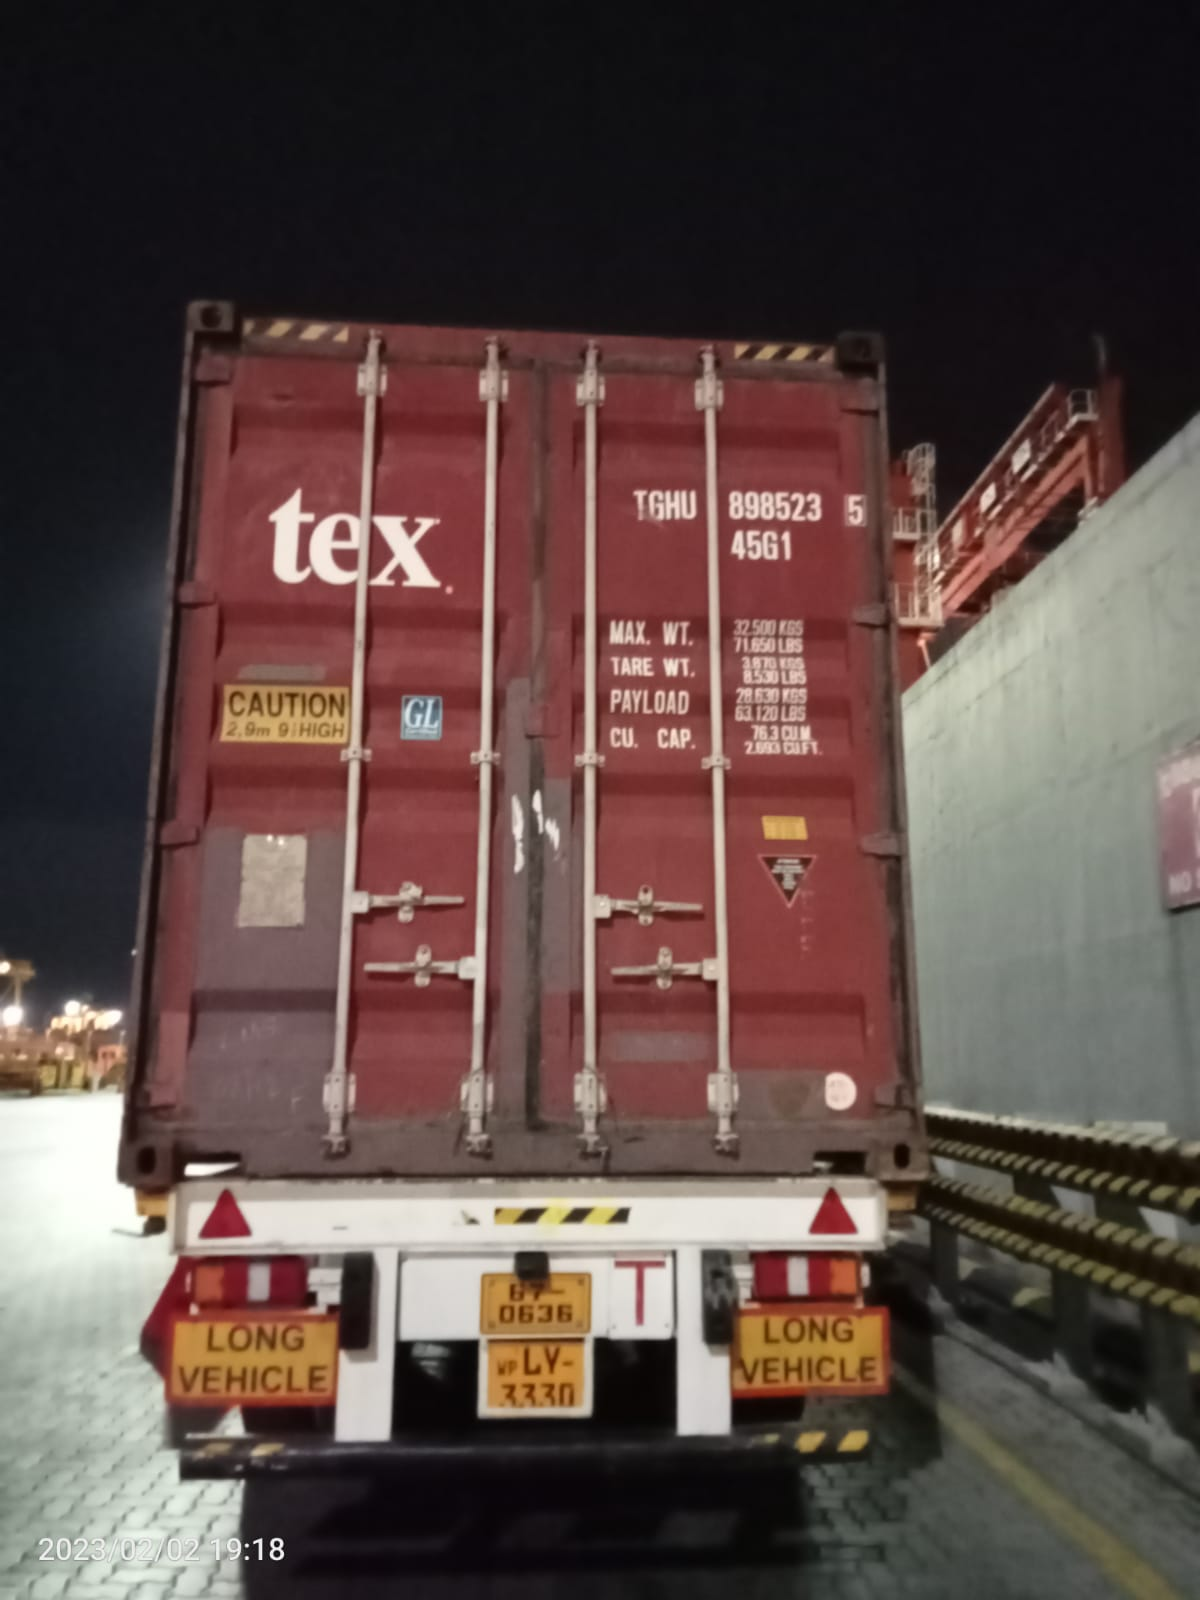rear_side: (207, 326, 924, 1198)
